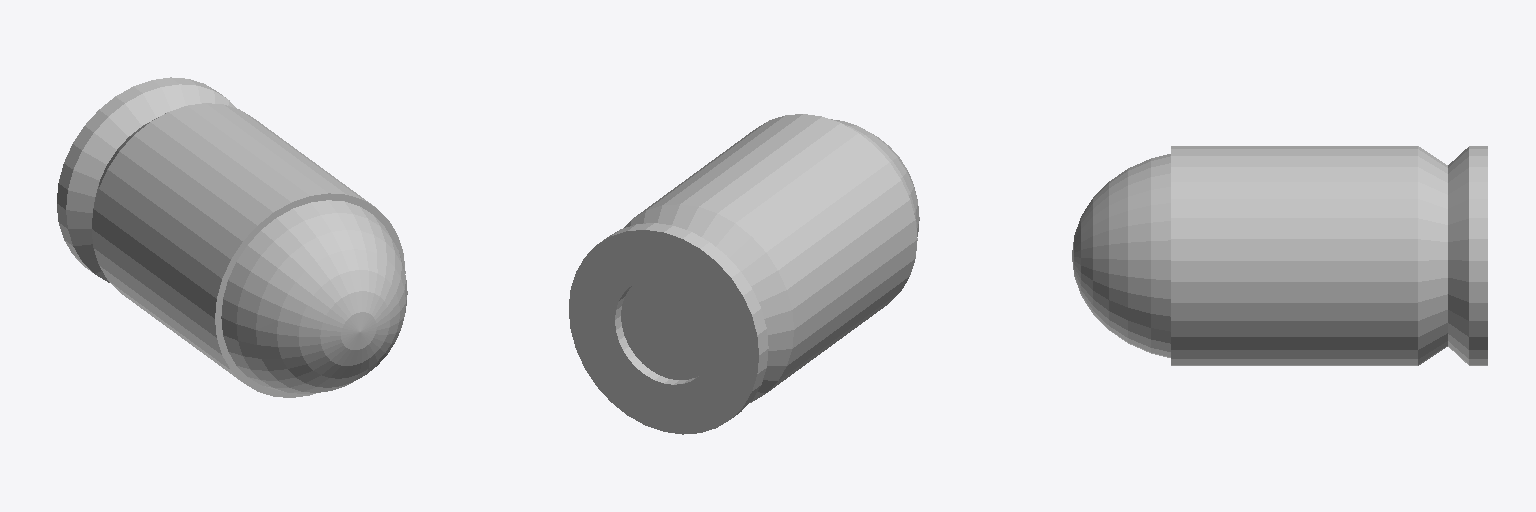
Rendered from bullet3.obj.
The picture shows the model from 3 angles: view 1: azimuth 30°, elevation 25°; view 2: azimuth 150°, elevation 25°; view 3: azimuth 270°, elevation 25°; orthographic projection.
Visible parts, largest first — view 1: Cylinder, Sphere; view 2: Cylinder, Sphere; view 3: Cylinder, Sphere.
Boxes of the visible parts, x1,y1,x2,y2 form: Cylinder: [57, 77, 405, 397]; Sphere: [221, 200, 407, 393]; Cylinder: [569, 114, 917, 434]; Sphere: [831, 119, 919, 236]; Cylinder: [1171, 146, 1487, 365]; Sphere: [1072, 154, 1170, 357].
Bounding box in the file's own units: 0.4 × 0.4 × 0.7566.